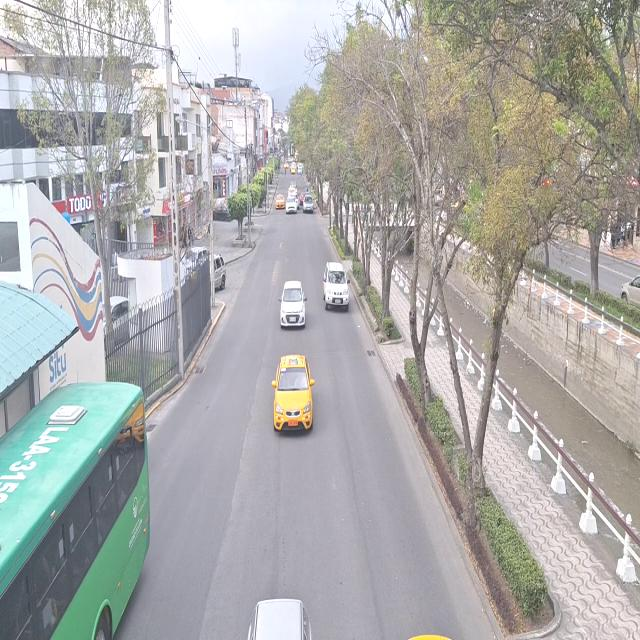SUV: (326, 264, 350, 308)
